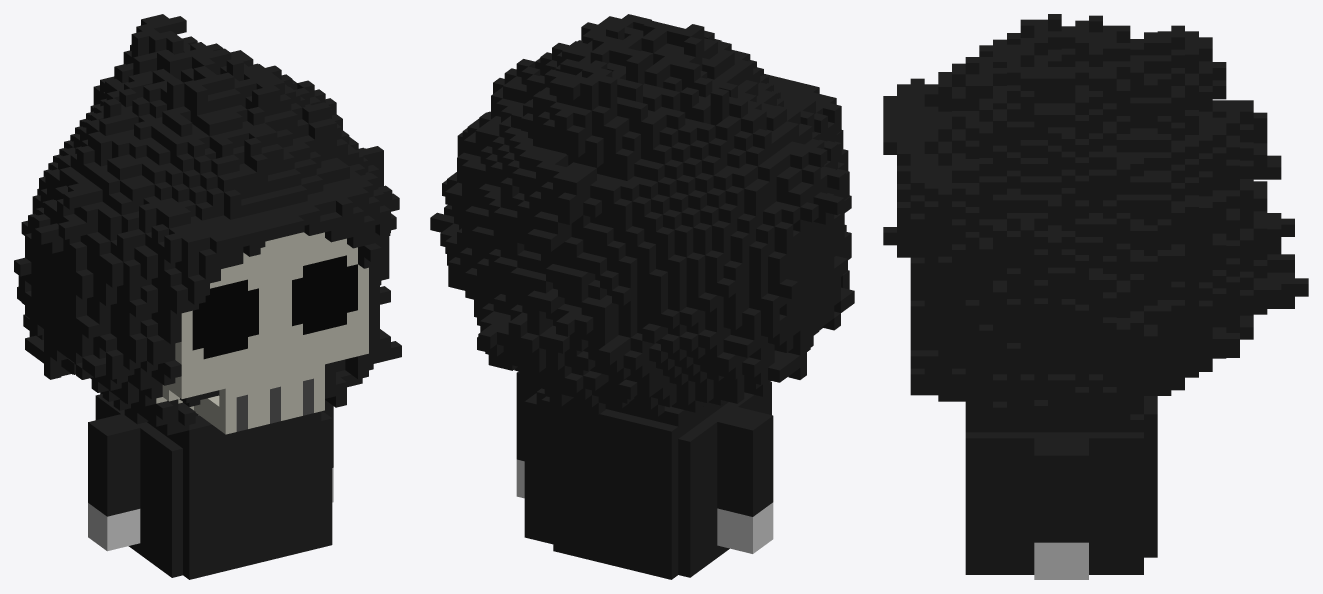
File: Skelly.obj
3 renders of one model, left to right at view 1: azimuth 30°, elevation 25°; view 2: azimuth 150°, elevation 25°; view 3: azimuth 270°, elevation 25°, orthographic. The views are drawn at different scales.
Size of the model in its own units: 3.2 by 4 by 3.1.
1 material, 1 textured.
